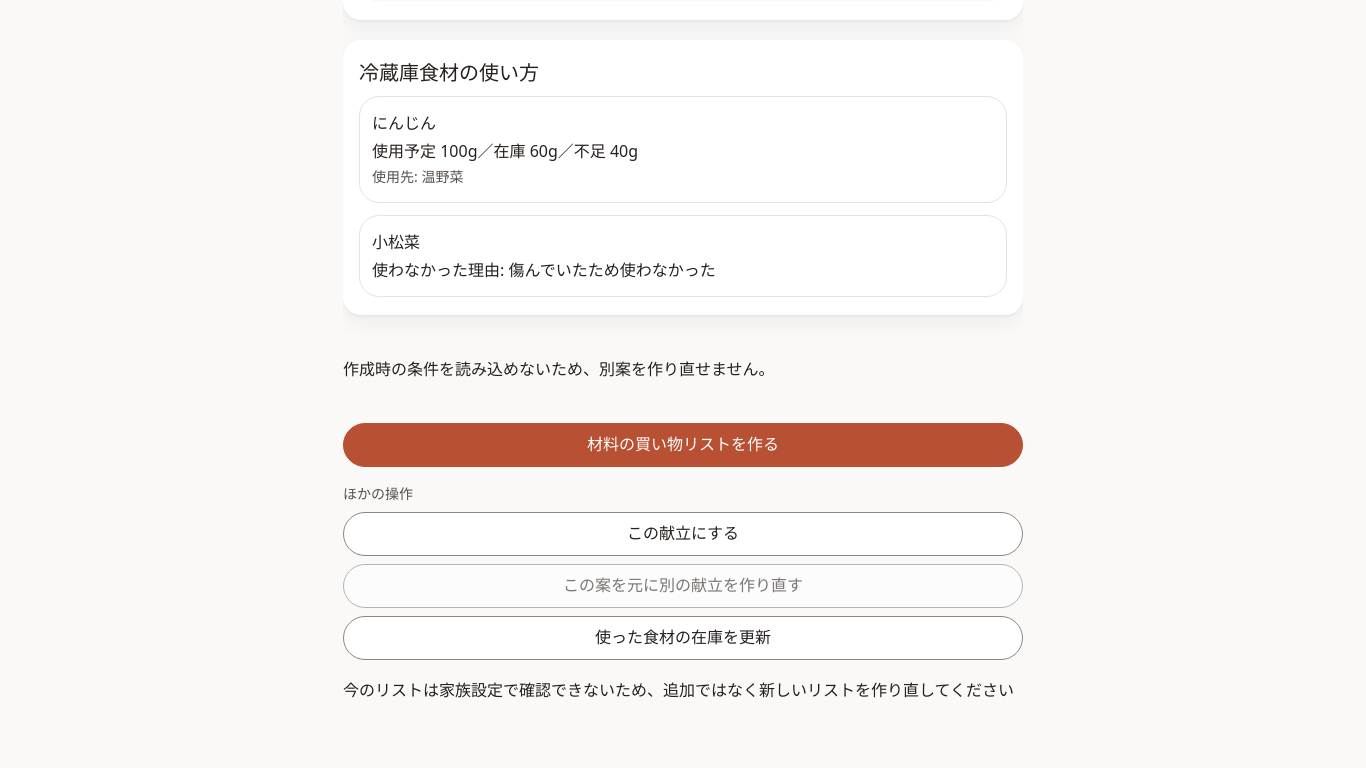
it: MenuResultPage › discards append sticky when the shopping list is truly invalid (SHOP-R1)
(page scrolled)
Click the button "材料の買い物リストを作る".
click(683, 445)  # box [343, 423, 1023, 467]
(page scrolled)
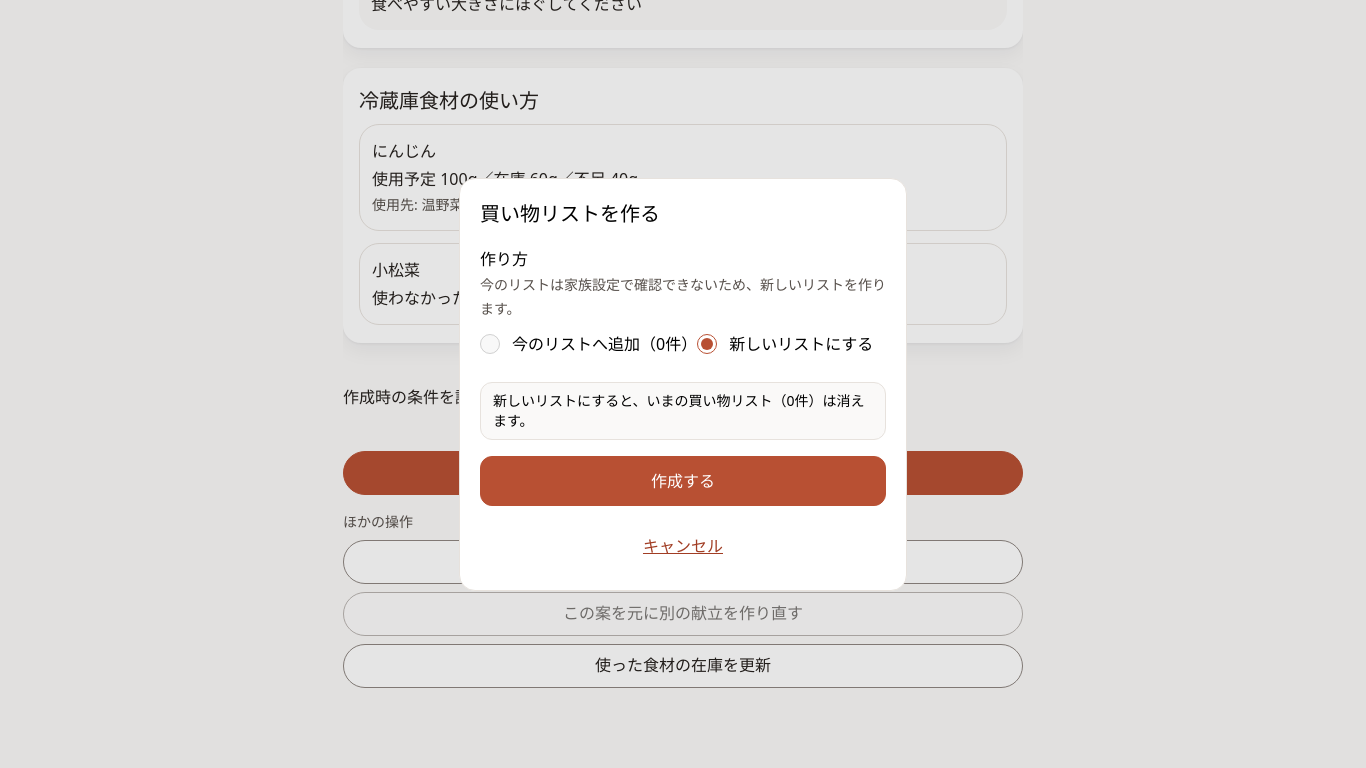
Check: the text "今のリストは家族設定で確認できないため、新しいリストを作ります。" is shown, box [480, 272, 886, 322]
